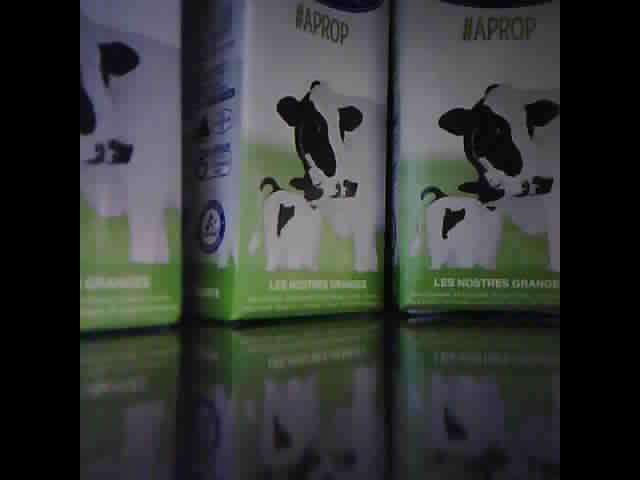leche: (186, 2, 388, 318), (395, 5, 558, 307), (79, 4, 181, 329)
